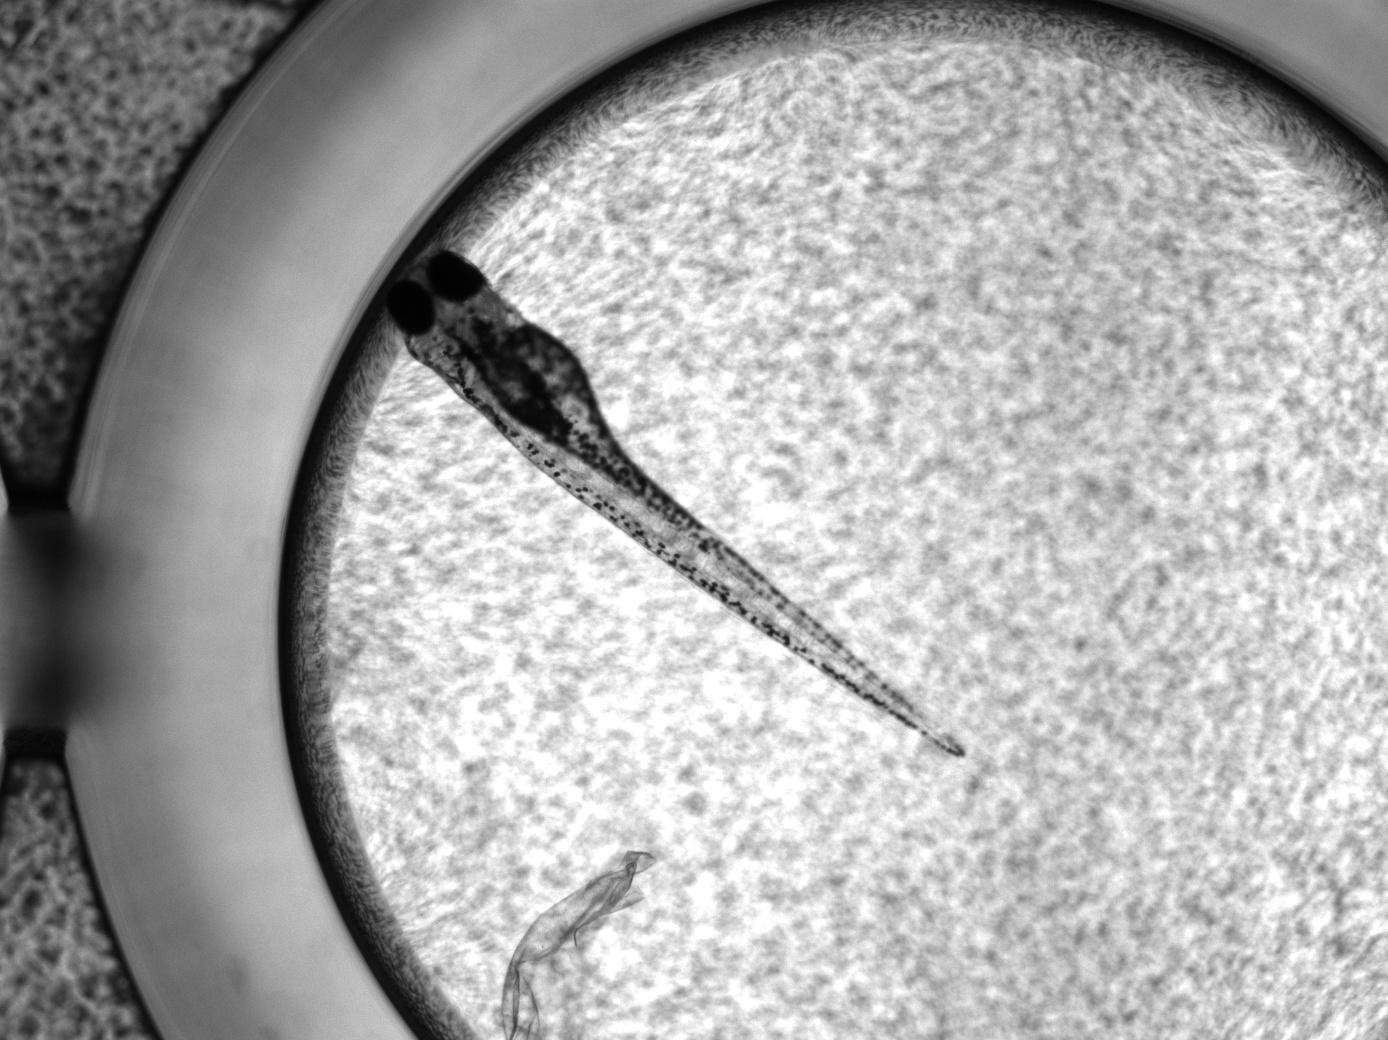debris: (496, 851, 652, 1040)
embryo: (385, 245, 966, 758)
eye: (426, 252, 485, 302), (385, 279, 435, 336)
yolksac: (489, 324, 601, 437)
